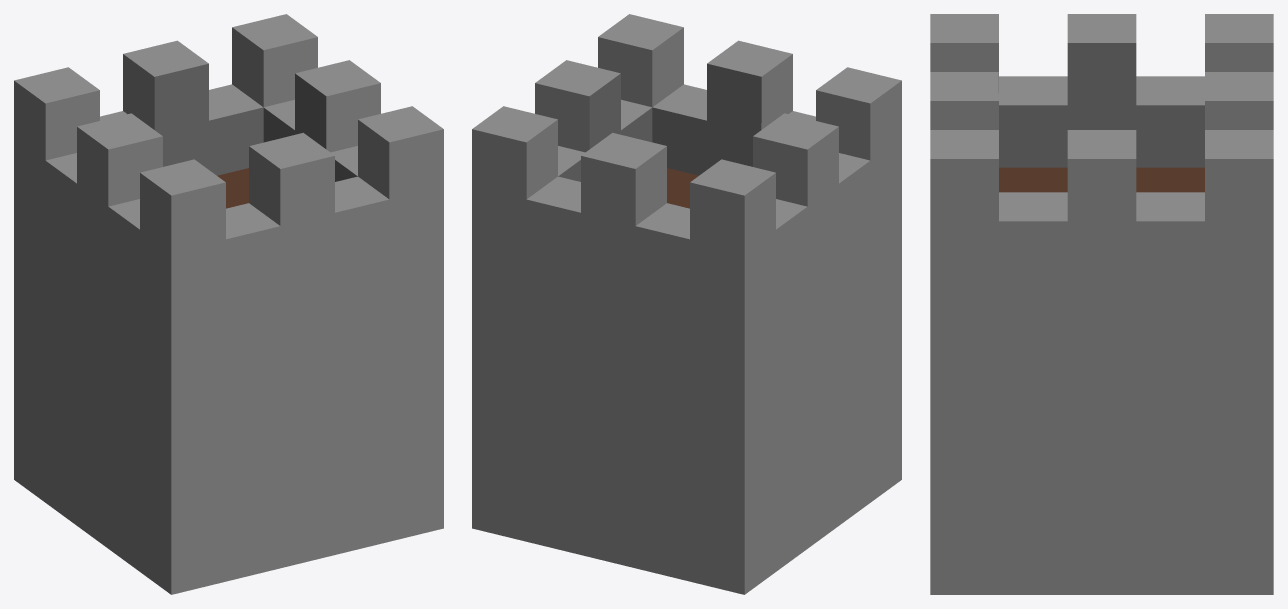
File: Tower.fbx
3 renders of one model, left to right at view 1: azimuth 30°, elevation 25°; view 2: azimuth 150°, elevation 25°; view 3: azimuth 270°, elevation 25°, orthographic. The views are drawn at different scales.
Visible parts, largest first — view 1: Tower; view 2: Tower; view 3: Tower.
Boxes of the visible parts, x1=… form: Tower: x1=14, y1=14, x2=443, y2=594; Tower: x1=472, y1=14, x2=901, y2=594; Tower: x1=930, y1=14, x2=1273, y2=594.
Bounding box in the file's own units: 100 × 140 × 100.
